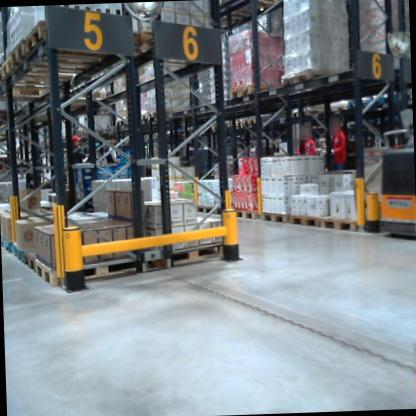pallet: (23, 13, 126, 62), (33, 248, 150, 290), (11, 36, 124, 73), (150, 228, 234, 276), (138, 26, 215, 71), (0, 52, 74, 91), (0, 67, 77, 94), (23, 244, 70, 280), (41, 87, 110, 109), (216, 0, 283, 22), (228, 80, 285, 104), (0, 80, 51, 105), (321, 210, 369, 235), (288, 209, 339, 230), (283, 65, 328, 85), (366, 89, 402, 113), (1, 227, 26, 256), (290, 104, 326, 121), (13, 239, 31, 270), (317, 101, 349, 118), (234, 205, 259, 225), (257, 209, 289, 224), (242, 114, 270, 130), (346, 98, 369, 115), (210, 120, 233, 134), (194, 203, 215, 214), (230, 120, 243, 131)
pallet_truck: (372, 117, 416, 241)
